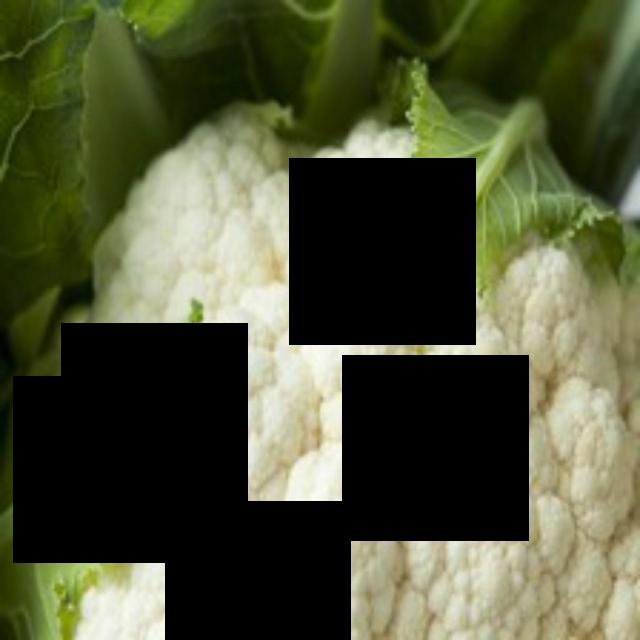cauliflower: (37, 88, 637, 637)
